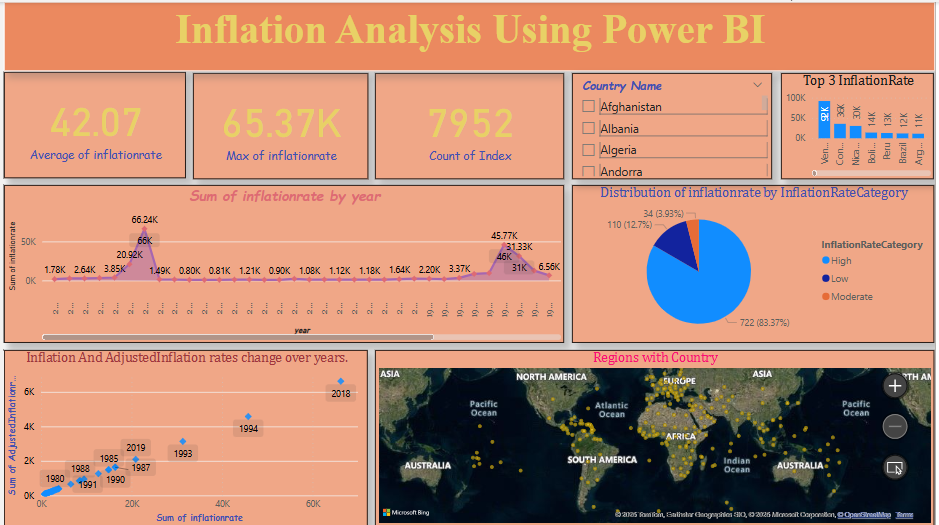

This screenshot's page, from the dashboard's own definition file:
{"tool":"powerbi","page":{"name":"Page 1","canvas":[1280,720],"ordinal":0},"visuals":[{"type":"card","fields":{"Values":["Avg(global_inflation_data.inflationrate)"]},"box":[0,96.2,250.2,145.7],"z":0},{"type":"card","fields":{"Values":["Max(global_inflation_data.inflationrate)"]},"box":[259.8,97.6,240.6,145.7],"z":1000},{"type":"card","fields":{"Values":["Count(global_inflation_data.Index)"]},"box":[510.1,97.6,259.8,145.7],"z":2000},{"type":"stackedAreaChart","fields":{"Y":["Sum(global_inflation_data.inflationrate)"],"Category":["global_inflation_data.year"]},"box":[0,251.6,769.9,217.2],"z":3000},{"type":"textbox","box":[0,0,1280,94.9],"z":4000},{"type":"pieChart","title":"Distribution of inflationrate by InflationRateCategory","fields":{"Category":["global_inflation_data.InflationRateCategory"],"Y":["Count(global_inflation_data.inflationrate)"]},"box":[780.9,251.6,497.7,217.2],"z":5000},{"type":"slicer","fields":{"Values":["global_inflation_data.country_name"]},"box":[780.9,97.6,275,145.7],"z":6000},{"type":"scatterChart","title":"Inflation And AdjustedInflation rates change over years.","fields":{"Category":["global_inflation_data.year"],"X":["Sum(global_inflation_data.inflationrate)"],"Y":["Sum(global_inflation_data.AdjustedInflationrate)"]},"box":[0,478.5,500.5,242],"z":7000},{"type":"map","title":"Regions with Country","fields":{"Category":["all.country","all.region"]},"box":[510.1,478.5,768.5,242],"z":8000},{"type":"columnChart","title":"Top 3 InflationRate","fields":{"Category":["global_inflation_data.country_name"],"Y":["Sum(global_inflation_data.inflationrate)"]},"box":[1068.3,97.6,210.4,145.7],"z":9000}]}

Visuals, with their boxes in screenshot pixels (x1, y1, x2, y2), scaled from the page's 1280x720 canvas onto the 939x525 screenshot:
card - Avg(global_inflation_data.inflationrate): bbox(0, 70, 184, 176)
card - Max(global_inflation_data.inflationrate): bbox(191, 71, 367, 177)
card - Count(global_inflation_data.Index): bbox(374, 71, 565, 177)
stackedAreaChart - Sum(global_inflation_data.inflationrate) x global_inflation_data.year: bbox(0, 183, 565, 342)
textbox: bbox(0, 0, 938, 69)
"Distribution of inflationrate by InflationRateCategory" pieChart: bbox(573, 183, 938, 342)
slicer - global_inflation_data.country_name: bbox(573, 71, 775, 177)
"Inflation And AdjustedInflation rates change over years." scatterChart: bbox(0, 349, 367, 524)
"Regions with Country" map: bbox(374, 349, 938, 524)
"Top 3 InflationRate" columnChart: bbox(784, 71, 938, 177)
